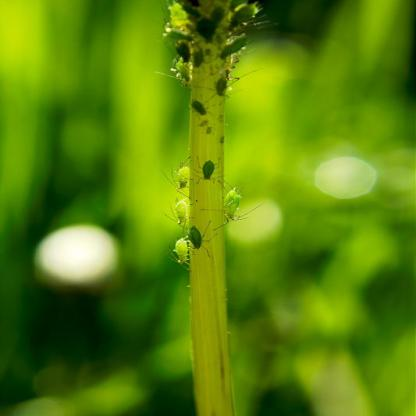aphid: (218, 182, 250, 226), (162, 158, 197, 194), (218, 31, 247, 61), (184, 223, 210, 252), (170, 236, 193, 268), (198, 156, 225, 182), (213, 73, 237, 100), (167, 57, 193, 81), (170, 198, 192, 226), (187, 95, 210, 119), (172, 41, 193, 63)
